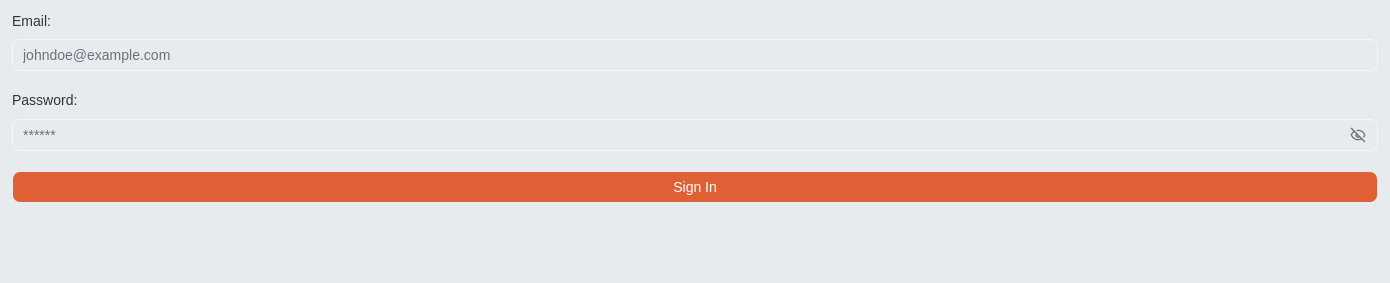
SignInForm › shows the error message returned by the sign-in action
In the field with placeholder "johndoe@example.com": (695, 55) [13, 39, 1377, 71], type "jane@example.com"
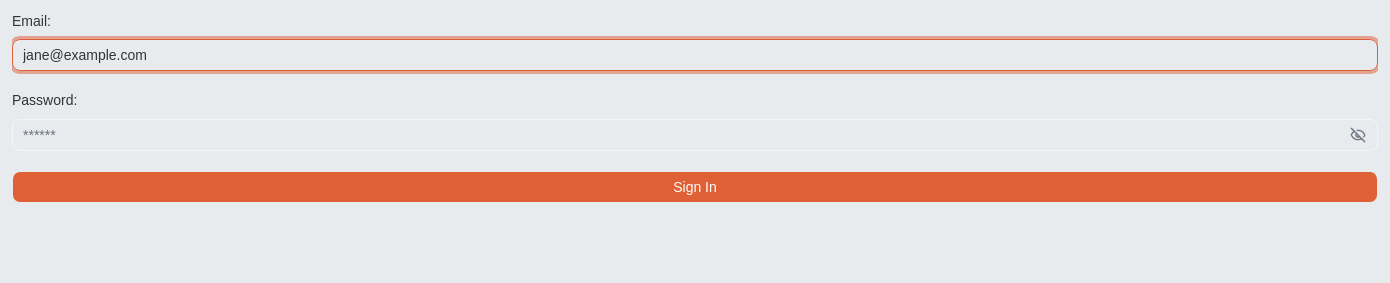
In the password field with placeholder "******": (677, 134) [13, 118, 1342, 150], type "wrong"
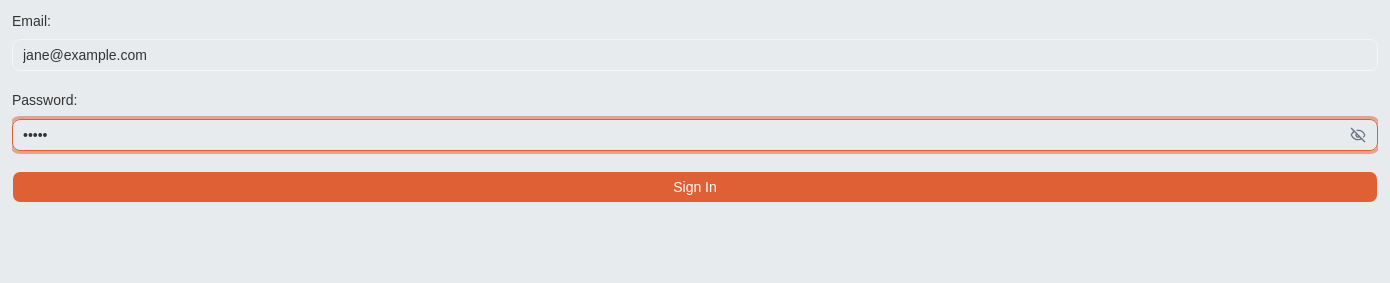
Click the button "Sign In": (695, 186) [12, 170, 1378, 202]
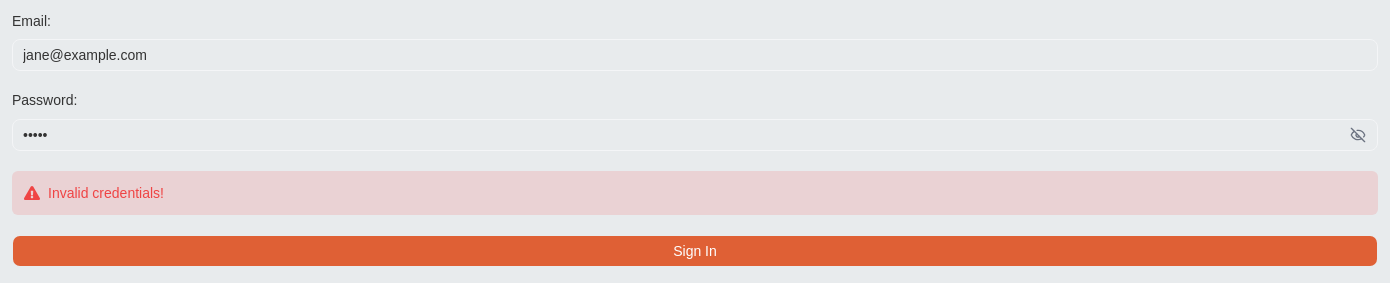
Expected: the text "Invalid credentials!" is shown, [48, 182, 164, 202]
